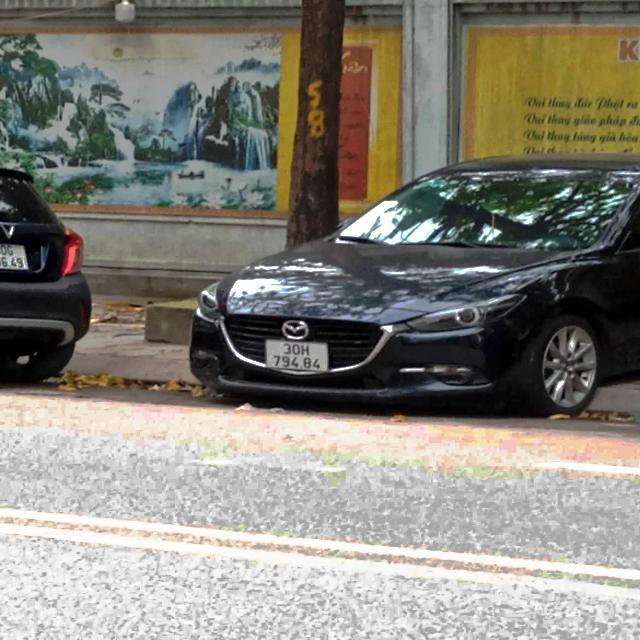license_plate: (265, 339, 331, 373)
